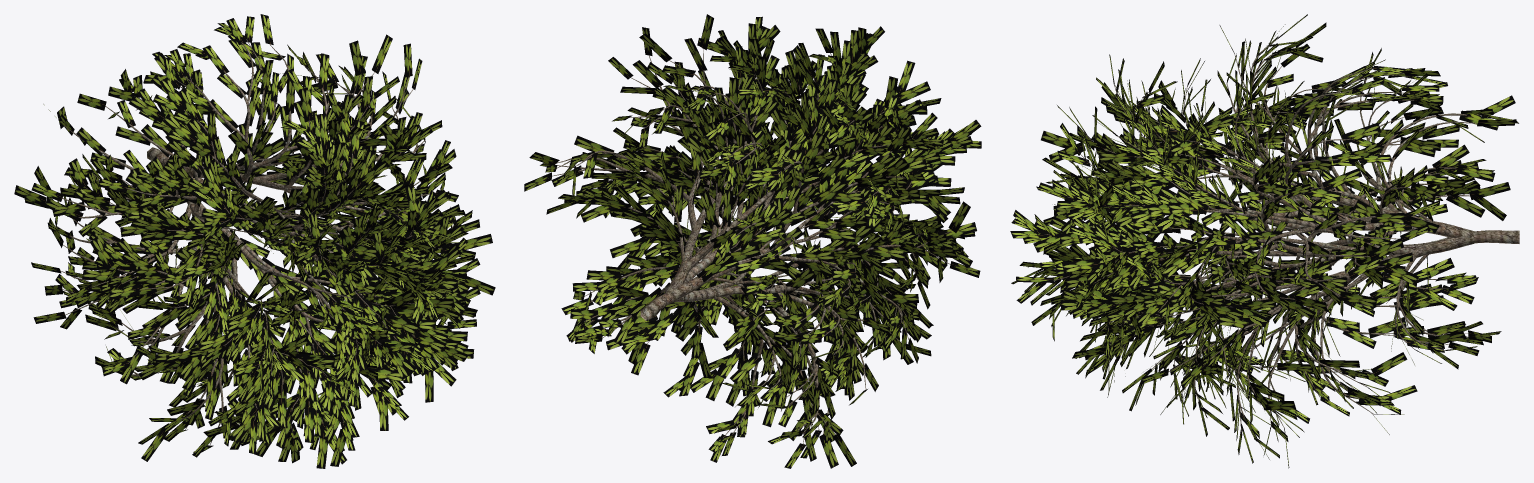
File: Blueberry.obj
The picture shows the model from 3 angles, left to right: view 1: azimuth 30°, elevation 25°; view 2: azimuth 150°, elevation 25°; view 3: azimuth 270°, elevation 25°; orthographic projection. The views are drawn at different scales.
Parts seen in each view (by area): view 1: leaves, tree; view 2: leaves, tree; view 3: leaves, tree.
Part boxes in pixels (x1,y1,x2,y2): leaves: (14,14,495,468); tree: (45,39,453,445); leaves: (524,14,981,468); tree: (552,48,952,443); leaves: (1010,14,1518,468); tree: (1045,38,1519,437).
Bounding box in the file's own units: 0.3682 × 0.3455 × 0.3869.
